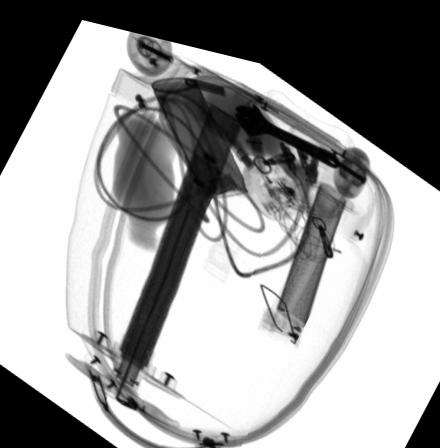Wrench: (233, 91, 340, 151)
